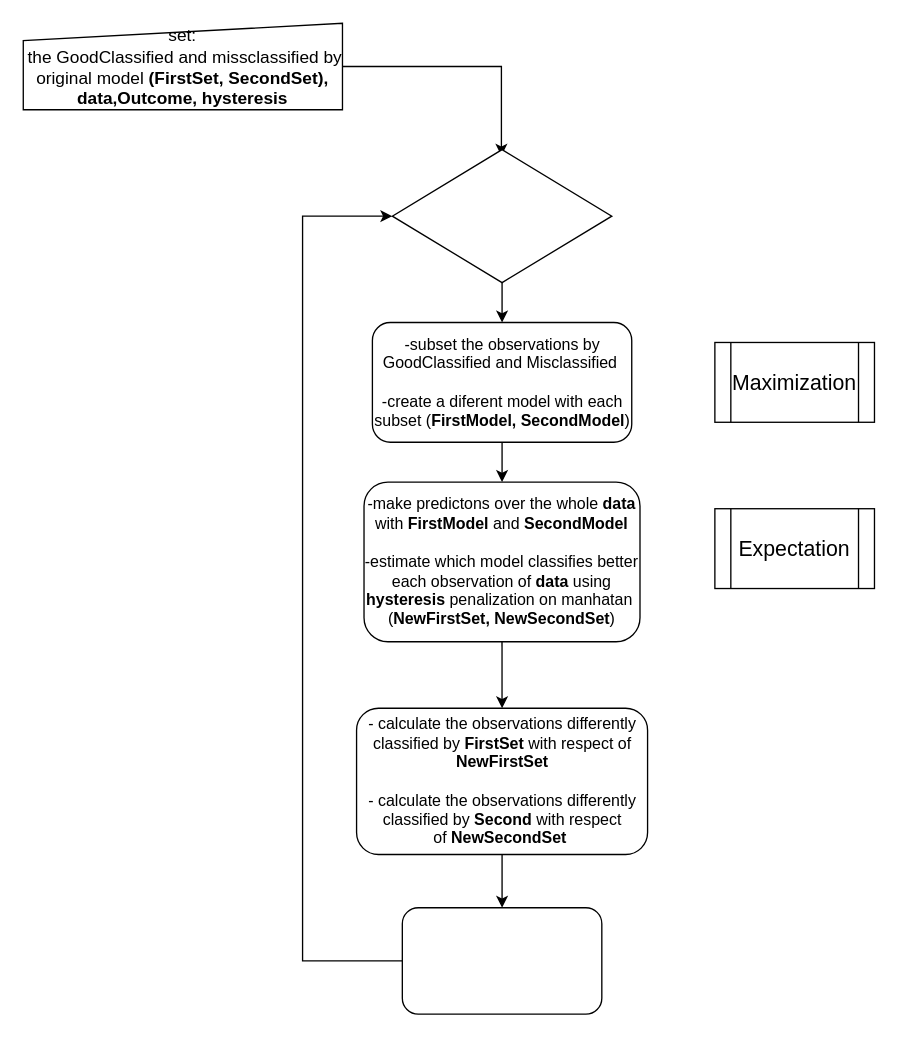
Image size: 898x1037. Some labels were removed from this diagram. The shapes that lost their labels are listed below. From the top down, each one's centre as x and y in pixels, then its label:
At (x=501, y=215): "while changes >0 and loops < 10".
At (x=501, y=960): "-sum the previous calculations to get the total Changes loops = loops+1".
